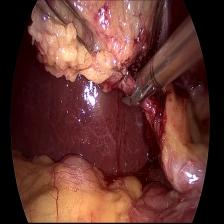Clipper: (120, 45, 162, 113)
Grasper: (21, 0, 96, 53)
